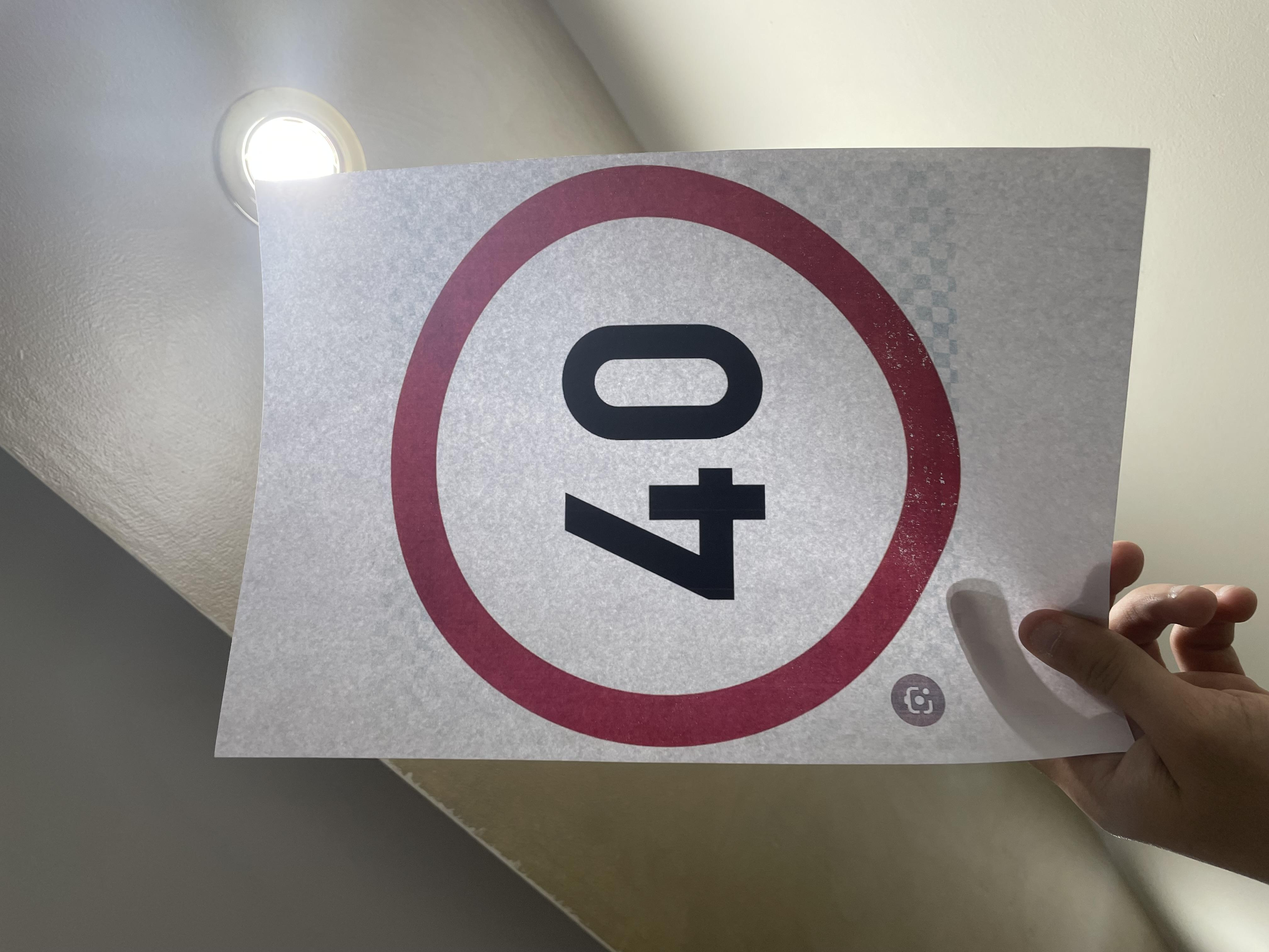40-Speed: (282, 286, 1039, 704)
